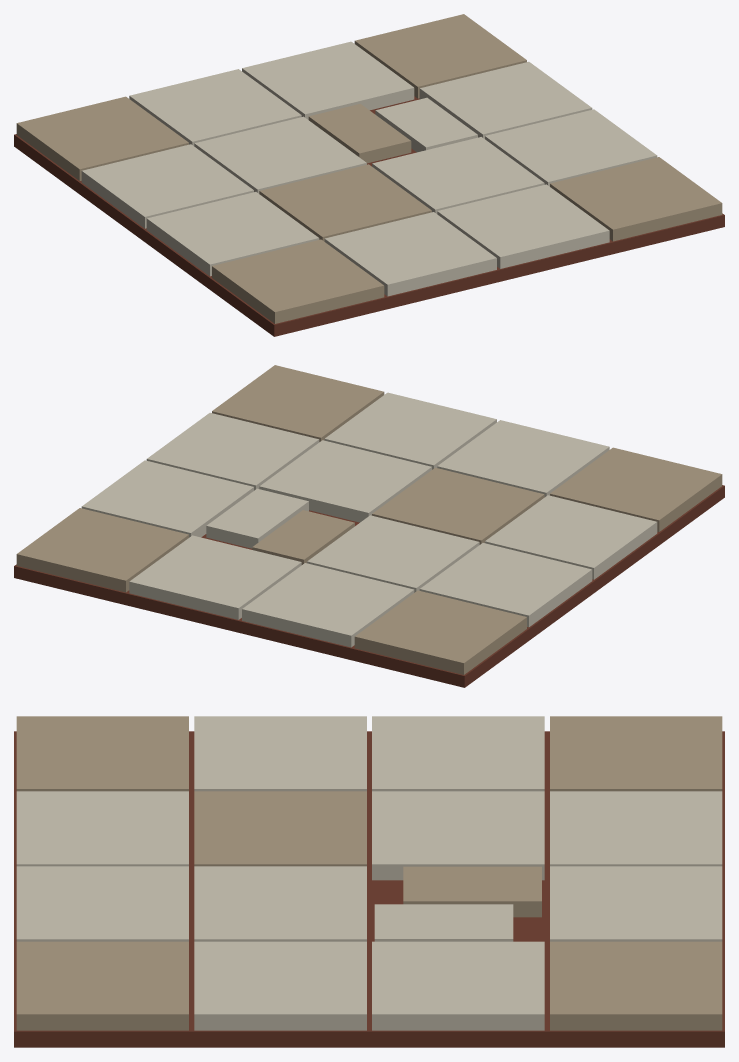
The model's file is FloorFlag__Cracked.fbx.
The picture shows the model from 3 angles, top to bottom: view 1: azimuth 30°, elevation 25°; view 2: azimuth 150°, elevation 25°; view 3: azimuth 270°, elevation 25°; orthographic projection. The views are drawn at different scales.
Parts seen in each view (by area): view 1: FloorFlag__Cracked; view 2: FloorFlag__Cracked; view 3: FloorFlag__Cracked.
Boxes of the visible parts, bbox=[...] form: FloorFlag__Cracked: bbox=[14, 14, 724, 336]; FloorFlag__Cracked: bbox=[14, 365, 724, 687]; FloorFlag__Cracked: bbox=[14, 716, 724, 1047].
Size of the model in its own units: 400 by 20 by 400.
1 material, 1 textured.
